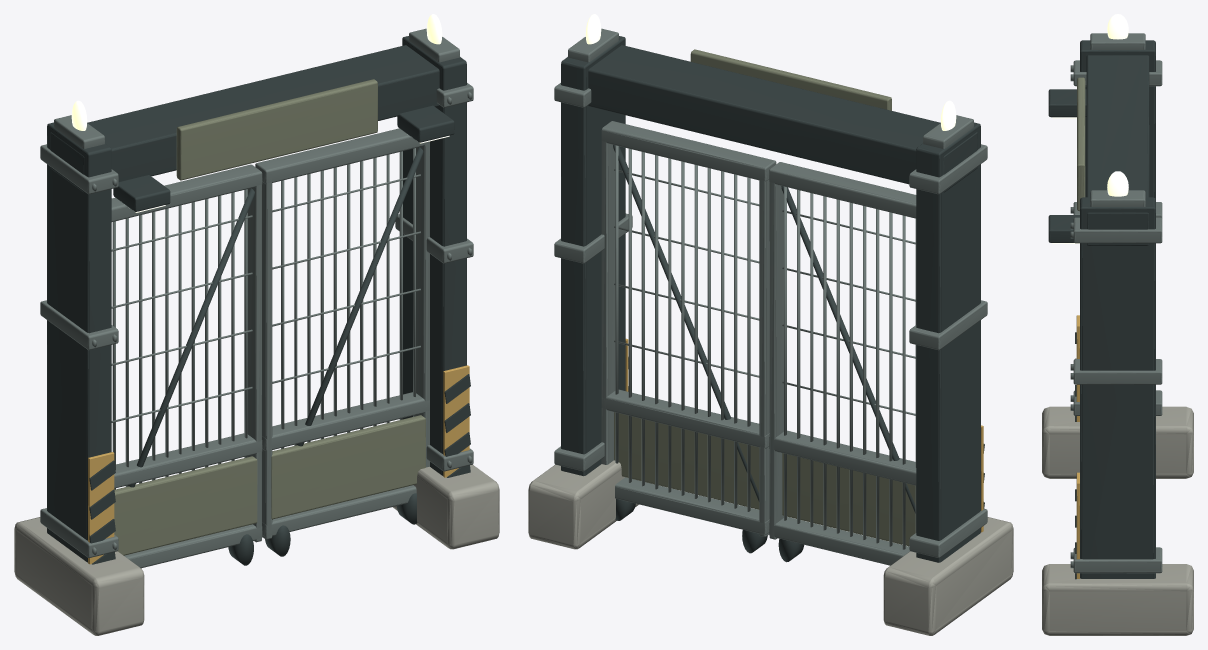
File: gate.glb
The picture shows the model from 3 angles, left to right: view 1: azimuth 30°, elevation 25°; view 2: azimuth 150°, elevation 25°; view 3: azimuth 270°, elevation 25°; orthographic projection. The views are drawn at different scales.
Parts seen in each view (by area): view 1: GateFrame, Leaf; view 2: GateFrame, Leaf; view 3: GateFrame.
Part boxes in pixels (x1,y1,x2,y2): GateFrame: (14, 14, 499, 635); Leaf: (111, 128, 429, 568); GateFrame: (528, 14, 1013, 635); Leaf: (601, 121, 916, 565); GateFrame: (1042, 14, 1193, 635).
Bounding box in the file's own units: 1.88 × 2.22 × 0.672.
